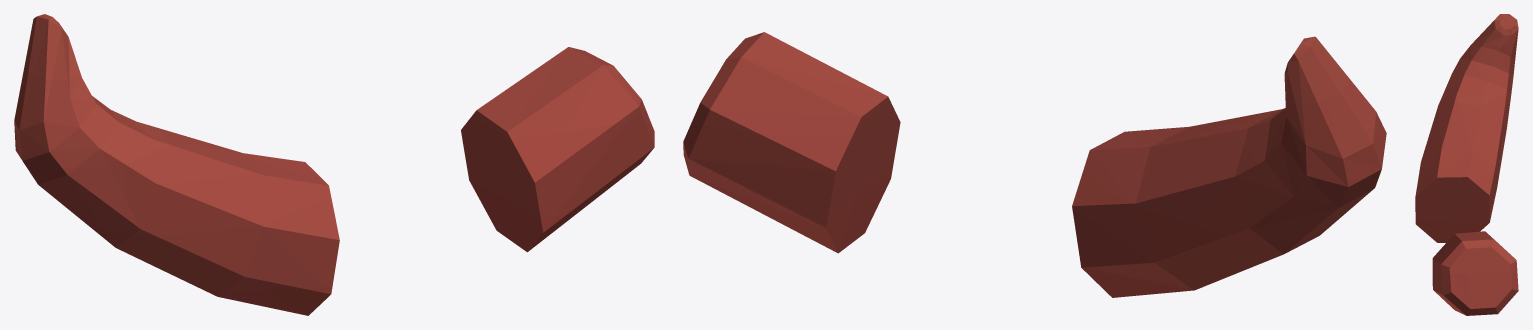
The model's file is CharSkyKid_Horn_AP09Yeti_01.glb.
3 renders of one model, left to right at view 1: azimuth 30°, elevation 25°; view 2: azimuth 150°, elevation 25°; view 3: azimuth 270°, elevation 25°, orthographic. The views are drawn at different scales.
Parts seen in each view (by area): view 1: CharSkyKid_Horn_AP09Yeti_01; view 2: CharSkyKid_Horn_AP09Yeti_01; view 3: CharSkyKid_Horn_AP09Yeti_01.
Part boxes in pixels (<box>): CharSkyKid_Horn_AP09Yeti_01: <box>14,14,654,315</box>; CharSkyKid_Horn_AP09Yeti_01: <box>683,32,1386,297</box>; CharSkyKid_Horn_AP09Yeti_01: <box>1415,14,1518,315</box>.
Size of the model in its own units: 4.76 by 2.31 by 1.23.
1 material, 1 textured.
